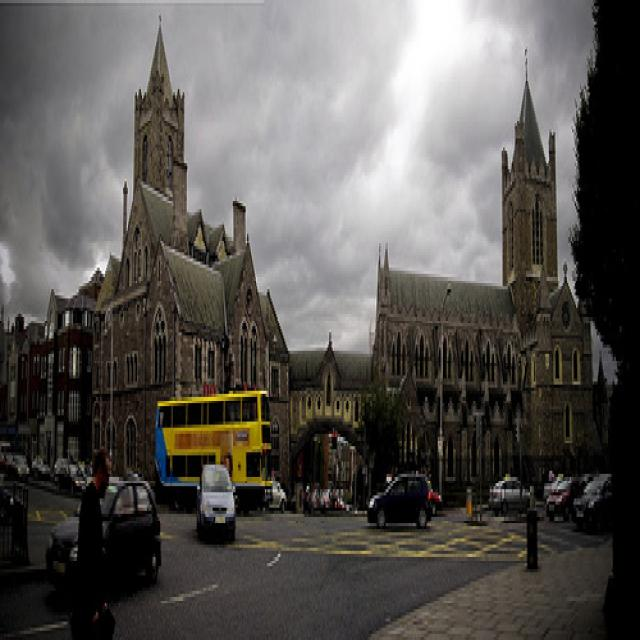Vehicle: (156, 389, 272, 508), (45, 478, 163, 588), (368, 472, 434, 534), (196, 466, 236, 544), (573, 474, 614, 531), (488, 474, 531, 518), (546, 476, 584, 522), (268, 477, 287, 515), (320, 486, 332, 518), (32, 456, 50, 474)
